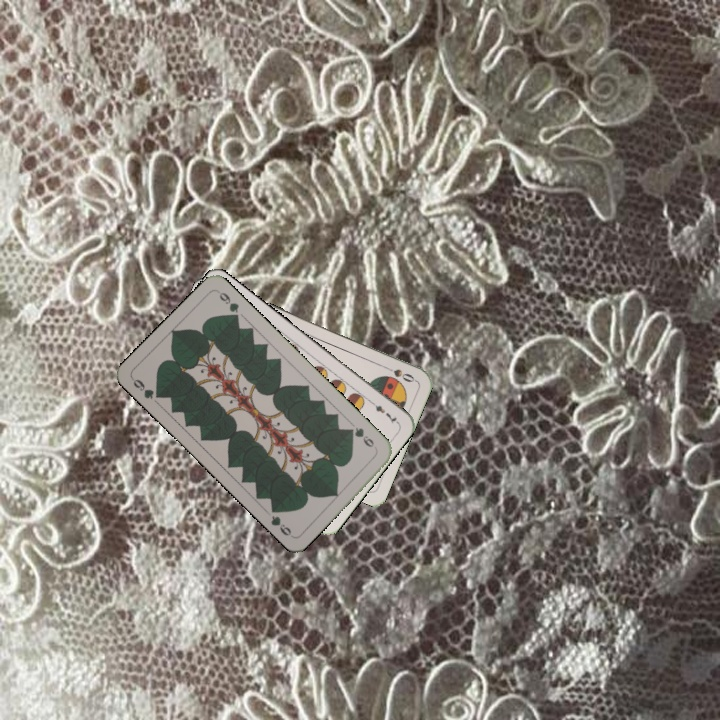E7: (366, 397, 401, 427)
G9: (344, 423, 380, 453), (128, 374, 165, 402)
SO: (379, 362, 418, 385)
